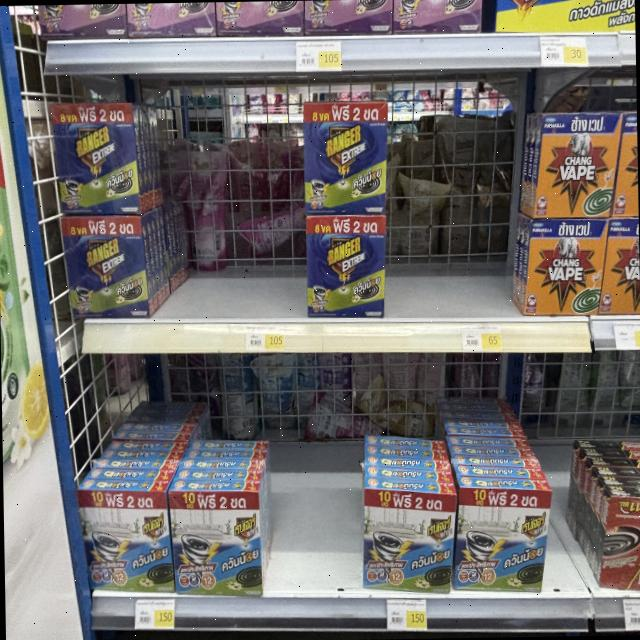empty_shelf: (149, 101, 305, 317), (387, 104, 528, 319), (67, 354, 260, 490), (265, 354, 364, 591), (370, 354, 541, 488), (542, 352, 595, 593)
